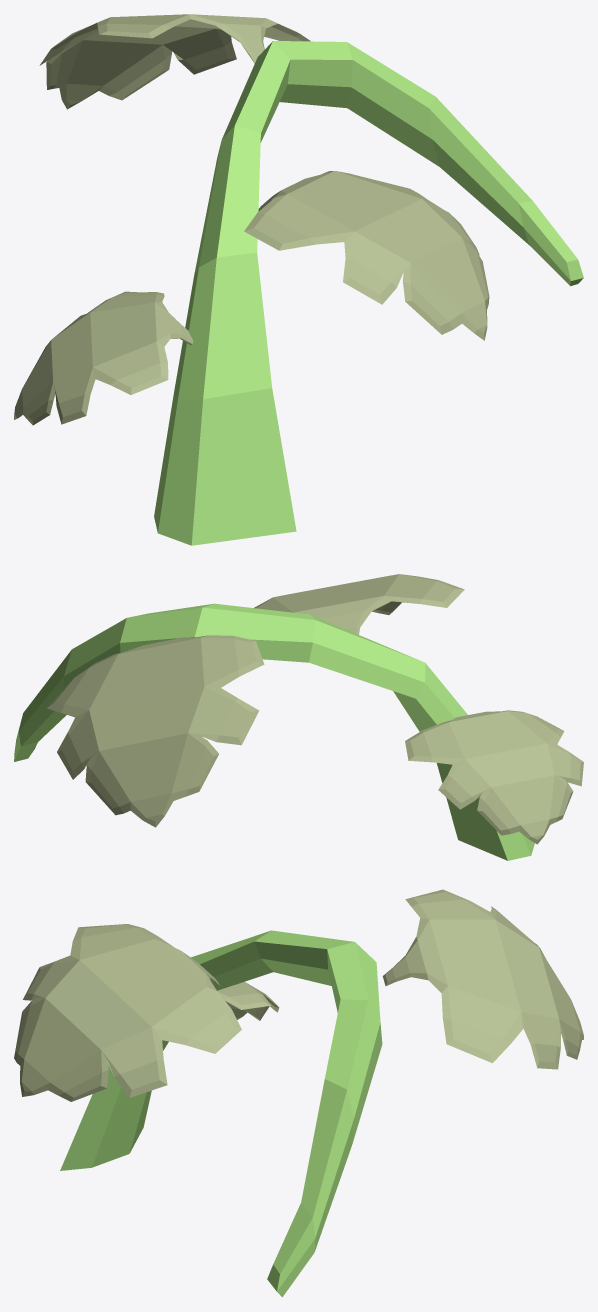
Rendered from pumpkin_2.glb.
3 renders of one model, top to bottom at view 1: azimuth 30°, elevation 25°; view 2: azimuth 150°, elevation 25°; view 3: azimuth 270°, elevation 25°, orthographic. The views are drawn at different scales.
Visible parts, largest first — view 1: Pumpkin_2; view 2: Pumpkin_2; view 3: Pumpkin_2.
Boxes of the visible parts, x1,y1,x2,y2 form: Pumpkin_2: (14,14,583,545); Pumpkin_2: (14,574,583,860); Pumpkin_2: (14,889,583,1297).
Bounding box in the file's own units: 0.4684 × 0.2544 × 0.4402.
